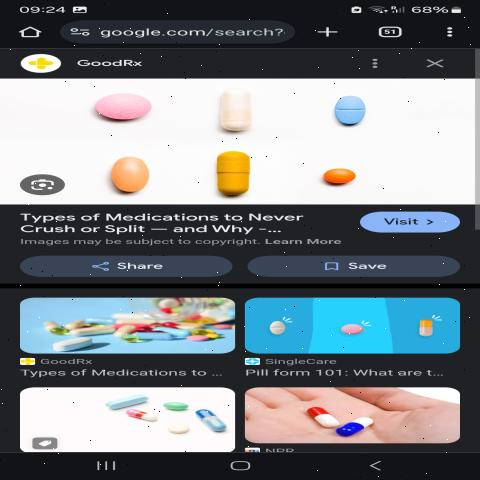Pill: (76, 90, 176, 130), (202, 84, 273, 139), (100, 152, 176, 199), (198, 147, 260, 202), (319, 91, 398, 131), (404, 306, 446, 344), (332, 315, 374, 339), (258, 317, 295, 342)
